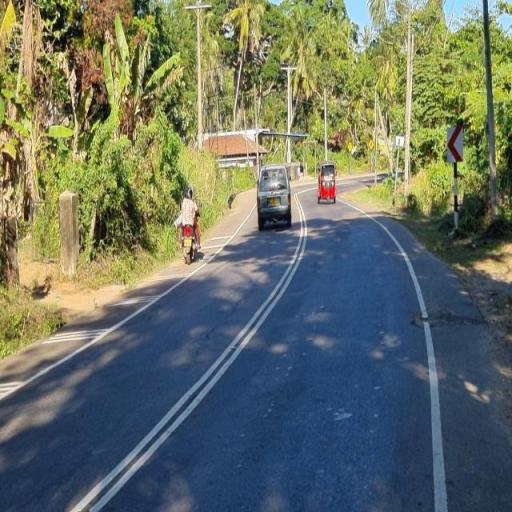double_white_line: (68, 191, 310, 512)
